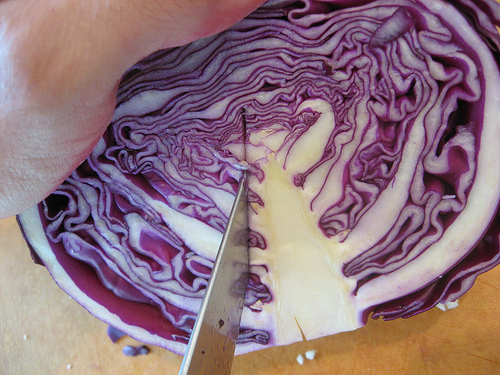cabbage: (13, 0, 499, 365)
